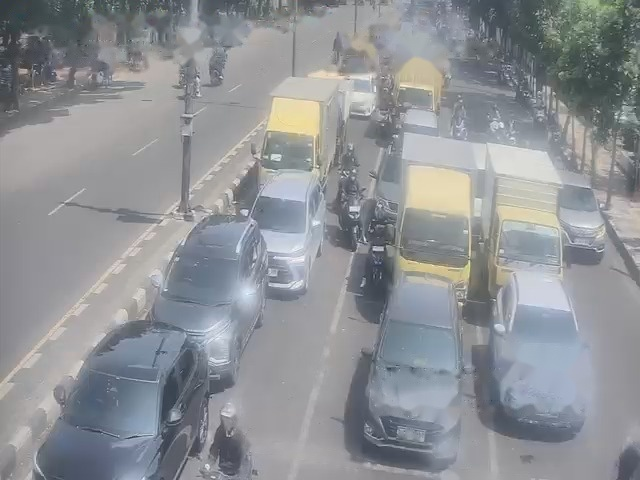Bis: (257, 81, 339, 193)
Mobil: (43, 322, 206, 480), (366, 288, 459, 457), (150, 214, 261, 352), (495, 266, 586, 425), (241, 168, 322, 288), (557, 171, 606, 262), (369, 145, 400, 220), (350, 76, 376, 117)
Motor: (373, 236, 391, 287), (343, 196, 360, 240)
Truk: (397, 141, 485, 293), (259, 77, 347, 187), (495, 148, 566, 284), (396, 57, 443, 114)
